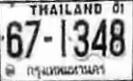1: (60, 19, 66, 57)
3: (73, 19, 89, 57)
4: (91, 18, 106, 56)
6: (7, 20, 23, 57)
7: (24, 20, 40, 58)
8: (109, 19, 124, 57)
BKK: (23, 61, 106, 77)
